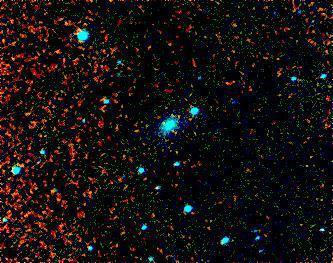star: (167, 120, 197, 150)
